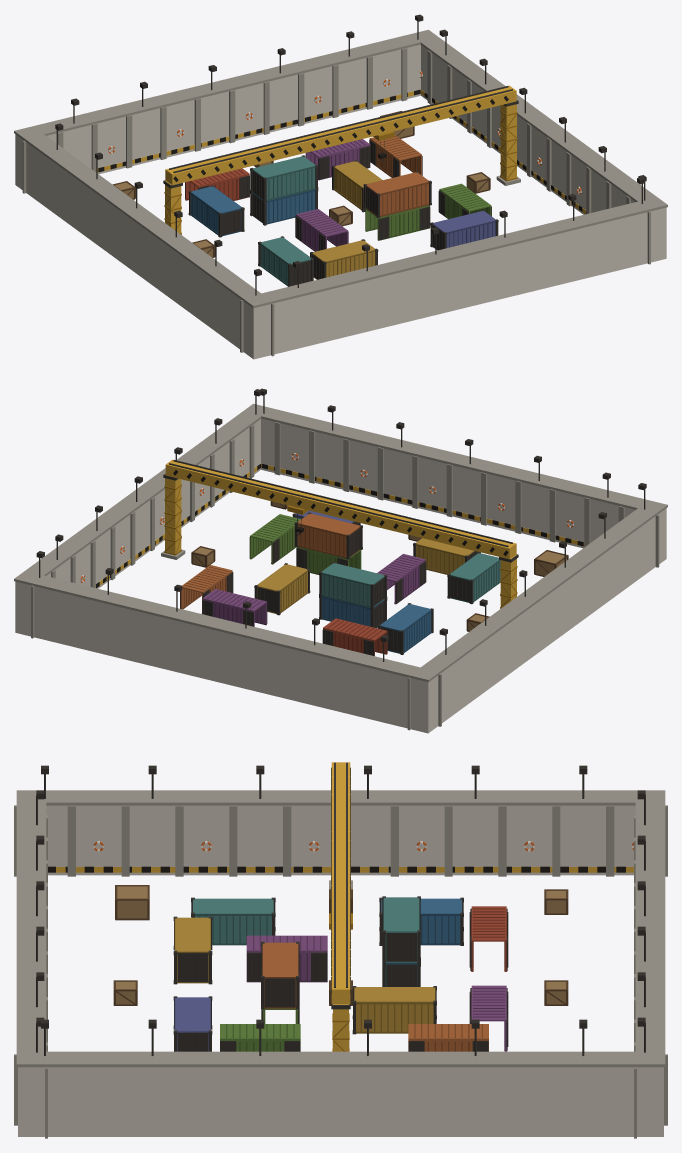
File: estaleiro.glb
The picture shows the model from 3 angles, top to bottom: view 1: azimuth 30°, elevation 25°; view 2: azimuth 150°, elevation 25°; view 3: azimuth 270°, elevation 25°; orthographic projection. The views are drawn at different scales.
Parts seen in each view (by area): view 1: map_concrete.003, map_concrete_d.005, map_crane_yellow.006, map_cont_door.005, map_metal.012, map_cont_5.004, map_cont_6.003, map_cont_3.003, map_cont_4.004, map_cont_1.003, map_cont_2.003, map_hazard_black.007 (+11 smaller); view 2: map_concrete.003, map_concrete_d.005, map_crane_yellow.006, map_cont_door.005, map_metal.012, map_cont_5.004, map_cont_6.003, map_cont_3.003, map_cont_4.004, map_cont_1.003, map_cont_2.003, map_hazard_black.007 (+10 smaller); view 3: map_concrete.003, map_concrete_d.005, map_cont_door.005, map_crane_yellow.006, map_metal.012, map_cont_3.003, map_cont_5.004, map_cont_6.003, map_cont_4.004, map_wood.013, map_hazard_black.007, map_cont_2.003 (+10 smaller).
Part boxes in pixels (bbox=[...]): map_concrete.003: bbox=[15, 44, 666, 359]; map_concrete_d.005: bbox=[14, 29, 667, 356]; map_crane_yellow.006: bbox=[97, 85, 585, 233]; map_cont_door.005: bbox=[55, 14, 646, 286]; map_metal.012: bbox=[56, 21, 645, 295]; map_cont_5.004: bbox=[252, 156, 315, 284]; map_cont_6.003: bbox=[366, 135, 428, 215]; map_cont_3.003: bbox=[312, 161, 381, 279]; map_cont_4.004: bbox=[296, 139, 370, 250]; map_cont_1.003: bbox=[191, 186, 315, 236]; map_cont_2.003: bbox=[365, 183, 491, 240]; map_hazard_black.007: bbox=[98, 89, 586, 213]; map_concrete.003: bbox=[15, 418, 666, 733]; map_concrete_d.005: bbox=[14, 403, 667, 730]; map_crane_yellow.006: bbox=[95, 459, 584, 607]; map_cont_door.005: bbox=[36, 388, 646, 655]; map_metal.012: bbox=[39, 395, 645, 661]; map_cont_5.004: bbox=[322, 553, 500, 606]; map_cont_6.003: bbox=[180, 513, 360, 613]; map_cont_3.003: bbox=[257, 538, 474, 613]; map_cont_4.004: bbox=[202, 554, 425, 626]; map_cont_1.003: bbox=[322, 598, 431, 653]; map_cont_2.003: bbox=[250, 514, 361, 572]; map_hazard_black.007: bbox=[96, 463, 583, 588]; map_concrete.003: bbox=[18, 805, 663, 1136]; map_concrete_d.005: bbox=[14, 790, 667, 1138]; map_cont_door.005: bbox=[36, 765, 645, 1051]; map_crane_yellow.006: bbox=[56, 762, 633, 1051]; map_metal.012: bbox=[36, 762, 645, 1055]; map_cont_3.003: bbox=[175, 917, 435, 1031]; map_cont_5.004: bbox=[193, 897, 418, 962]; map_cont_6.003: bbox=[263, 942, 488, 1051]; map_cont_4.004: bbox=[246, 935, 506, 1051]; map_wood.013: bbox=[116, 886, 565, 1004]; map_hazard_black.007: bbox=[48, 767, 625, 994]; map_cont_2.003: bbox=[220, 1008, 300, 1051].
Bounding box in the file's own units: 48.6 × 10.39 × 48.6.
